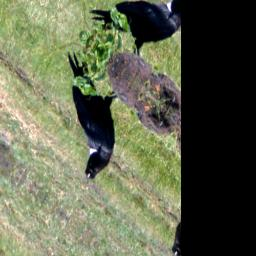Crow: (27, 44, 140, 188)
